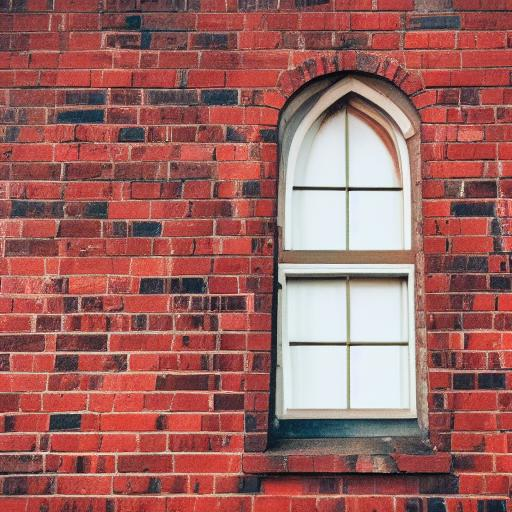Window: (243, 54, 455, 477)
